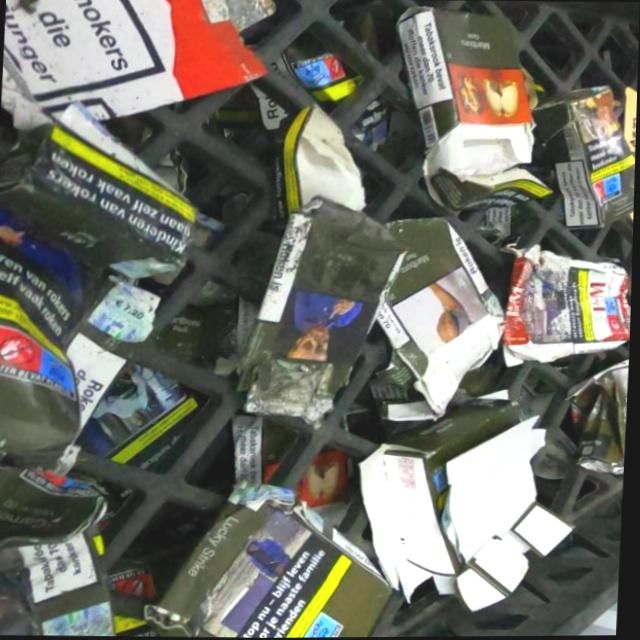Paper: (233, 98, 418, 432), (353, 383, 590, 617), (145, 473, 407, 639), (378, 1, 563, 214), (0, 94, 208, 280), (0, 0, 277, 136), (348, 213, 515, 426), (0, 207, 94, 468), (0, 462, 130, 636), (496, 239, 634, 370), (527, 81, 638, 231), (63, 282, 167, 434), (76, 360, 207, 475), (229, 412, 356, 527), (283, 49, 395, 153), (561, 351, 631, 475), (108, 561, 171, 637)
